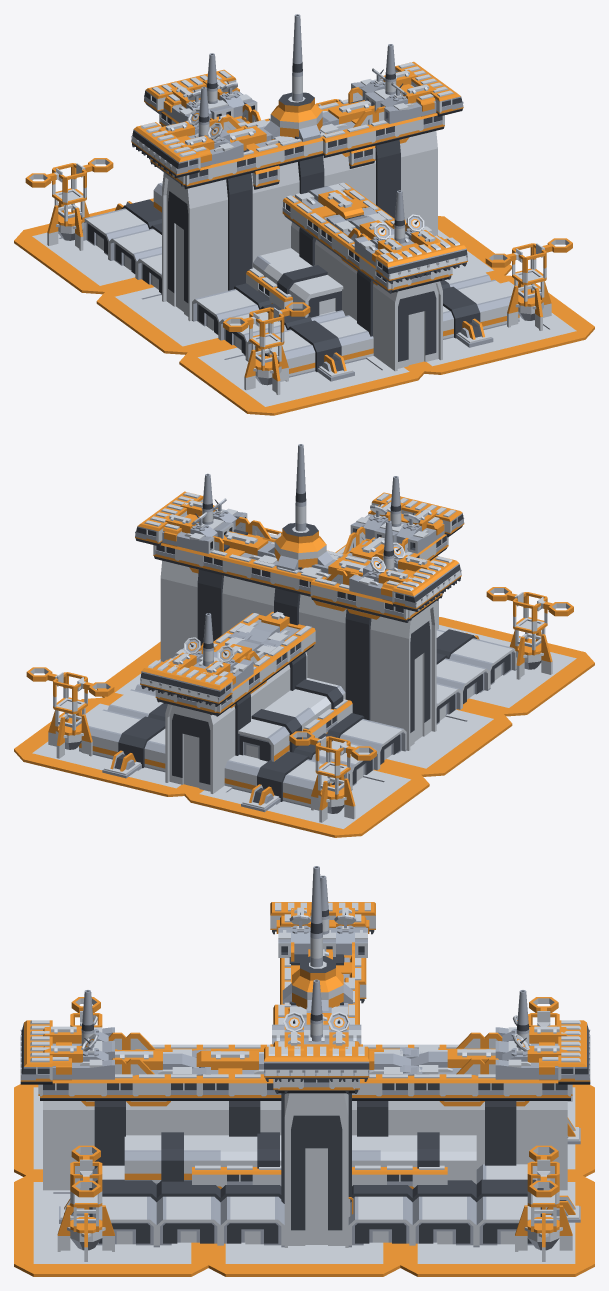
The model's file is forteresse.glb.
The picture shows the model from 3 angles, top to bottom: view 1: azimuth 30°, elevation 25°; view 2: azimuth 150°, elevation 25°; view 3: azimuth 270°, elevation 25°; orthographic projection. The views are drawn at different scales.
Parts seen in each view (by area): view 1: mergedBlocks(Clone); view 2: mergedBlocks(Clone); view 3: mergedBlocks(Clone).
Boxes of the visible parts, x1=… form: mergedBlocks(Clone): x1=14, y1=14, x2=594, y2=415; mergedBlocks(Clone): x1=14, y1=444, x2=594, y2=837; mergedBlocks(Clone): x1=14, y1=866, x2=594, y2=1276.
Bounding box in the file's own units: 14.56 × 10.7 × 18.16.
1 material, 1 textured.
